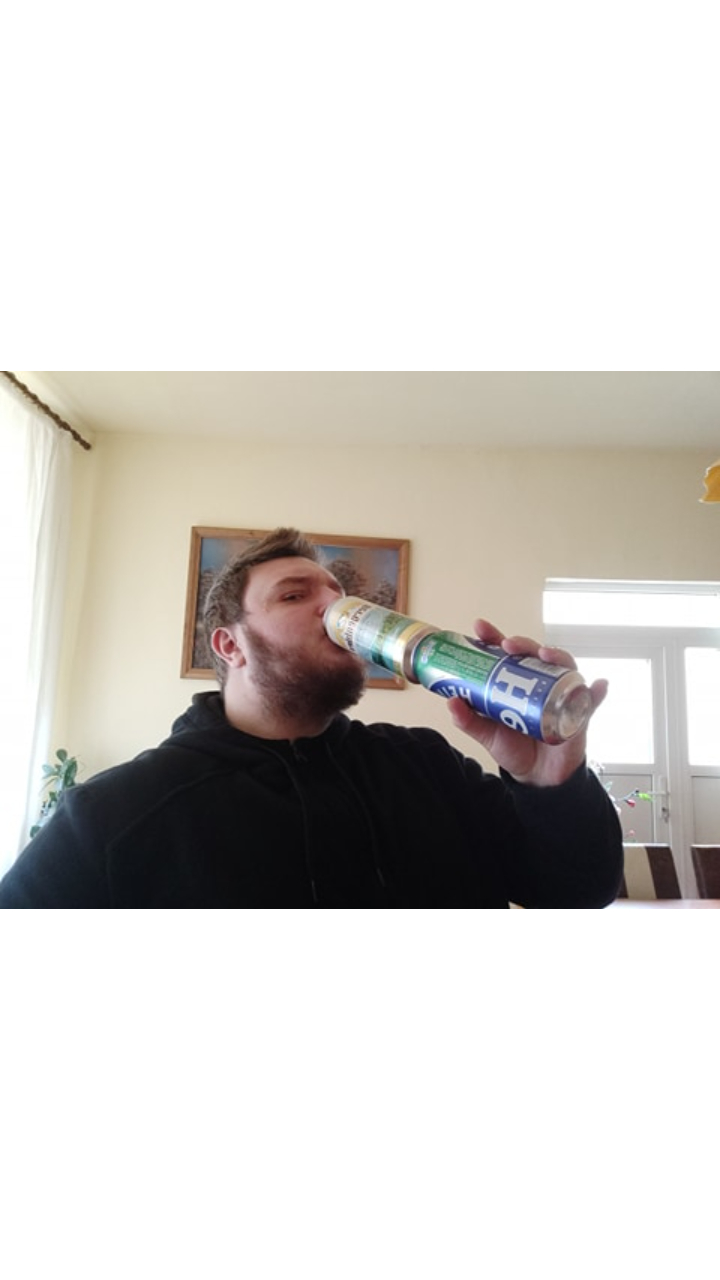Can: (411, 627, 593, 748), (323, 596, 429, 684)
